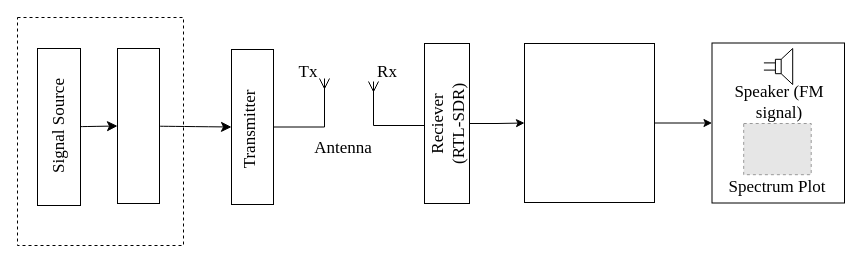
This 862x263 diagram has some shape labels left out. Grey dashed boxes stand in for pictures. The shapes that lost their labels are listed below. From the top down, each one's centre as x and y in pixels, then its label:
the point at 138,126: Modulation
the point at 589,122: Modulation Classification Network
